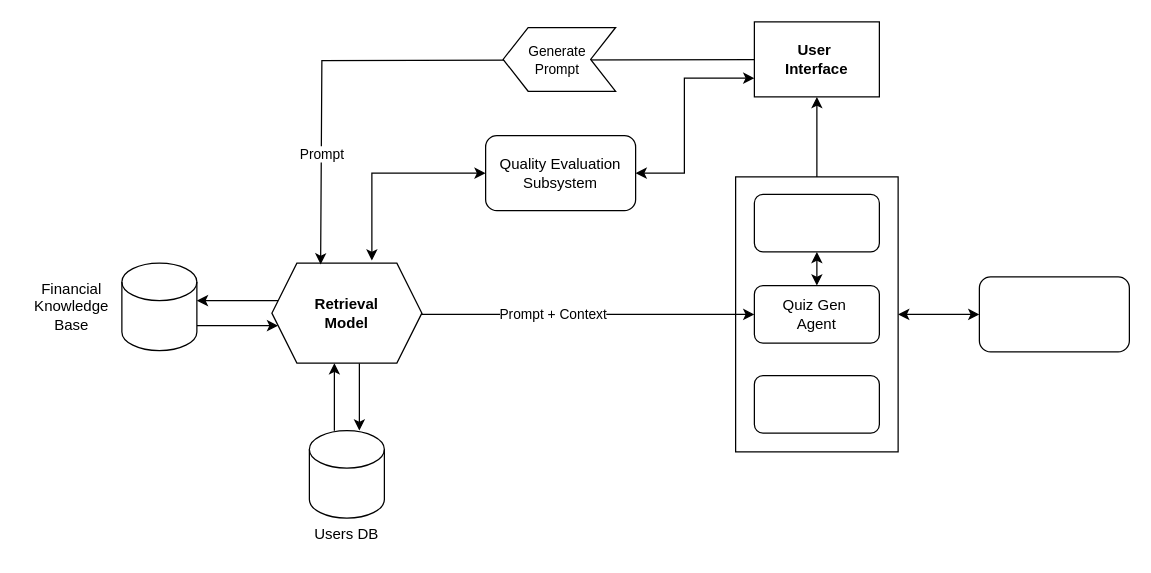
This 1151x573 diagram has some shape labels left out. The shapes that lost their labels are listed below. From the top down, each one's centre as x and y in pixels, then its label:
At (816,222): "Tips Gen Agent".
At (1053,314): "Gemma AI".
At (816,403): "Decisions Support Agent".
